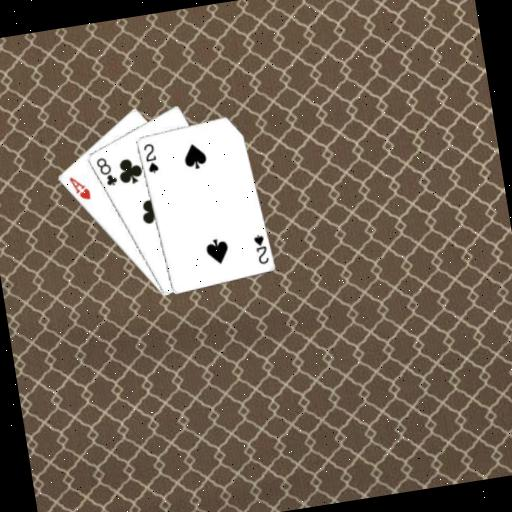2S: (138, 139, 160, 175), (250, 230, 271, 267)
8C: (92, 152, 119, 189)
AH: (65, 171, 93, 204)
